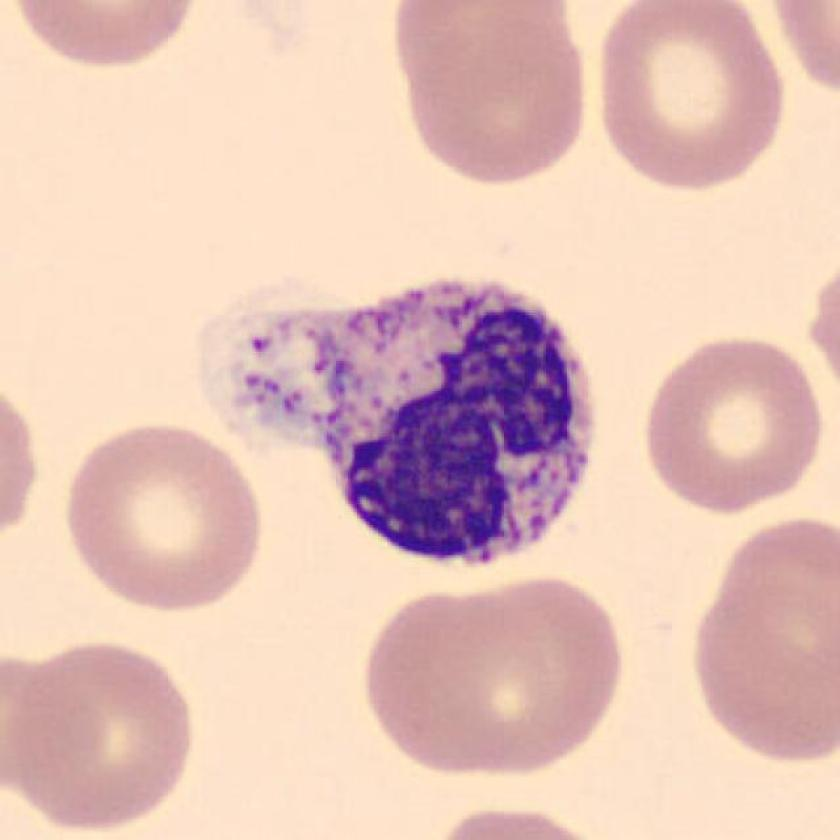neutrophil: (322, 277, 600, 562)
